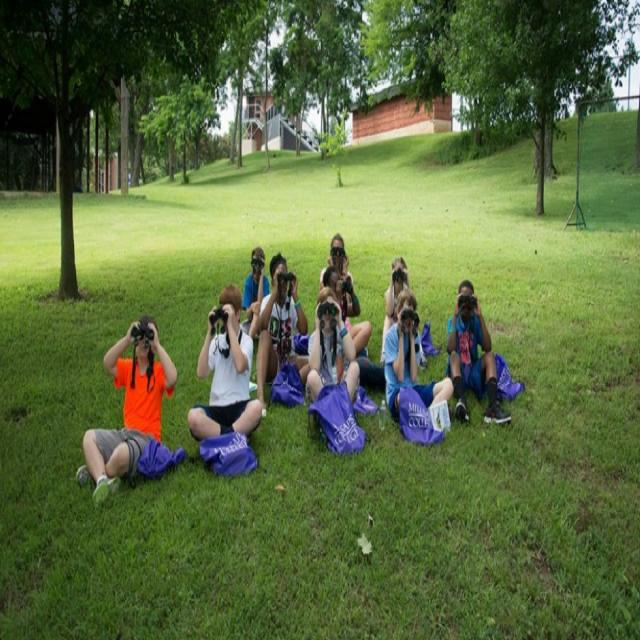body: (73, 310, 179, 511), (186, 282, 264, 446), (252, 249, 317, 423), (443, 277, 512, 425), (384, 287, 456, 425), (304, 285, 361, 433), (380, 255, 410, 363), (319, 232, 353, 326), (240, 244, 270, 340), (321, 263, 361, 324)
